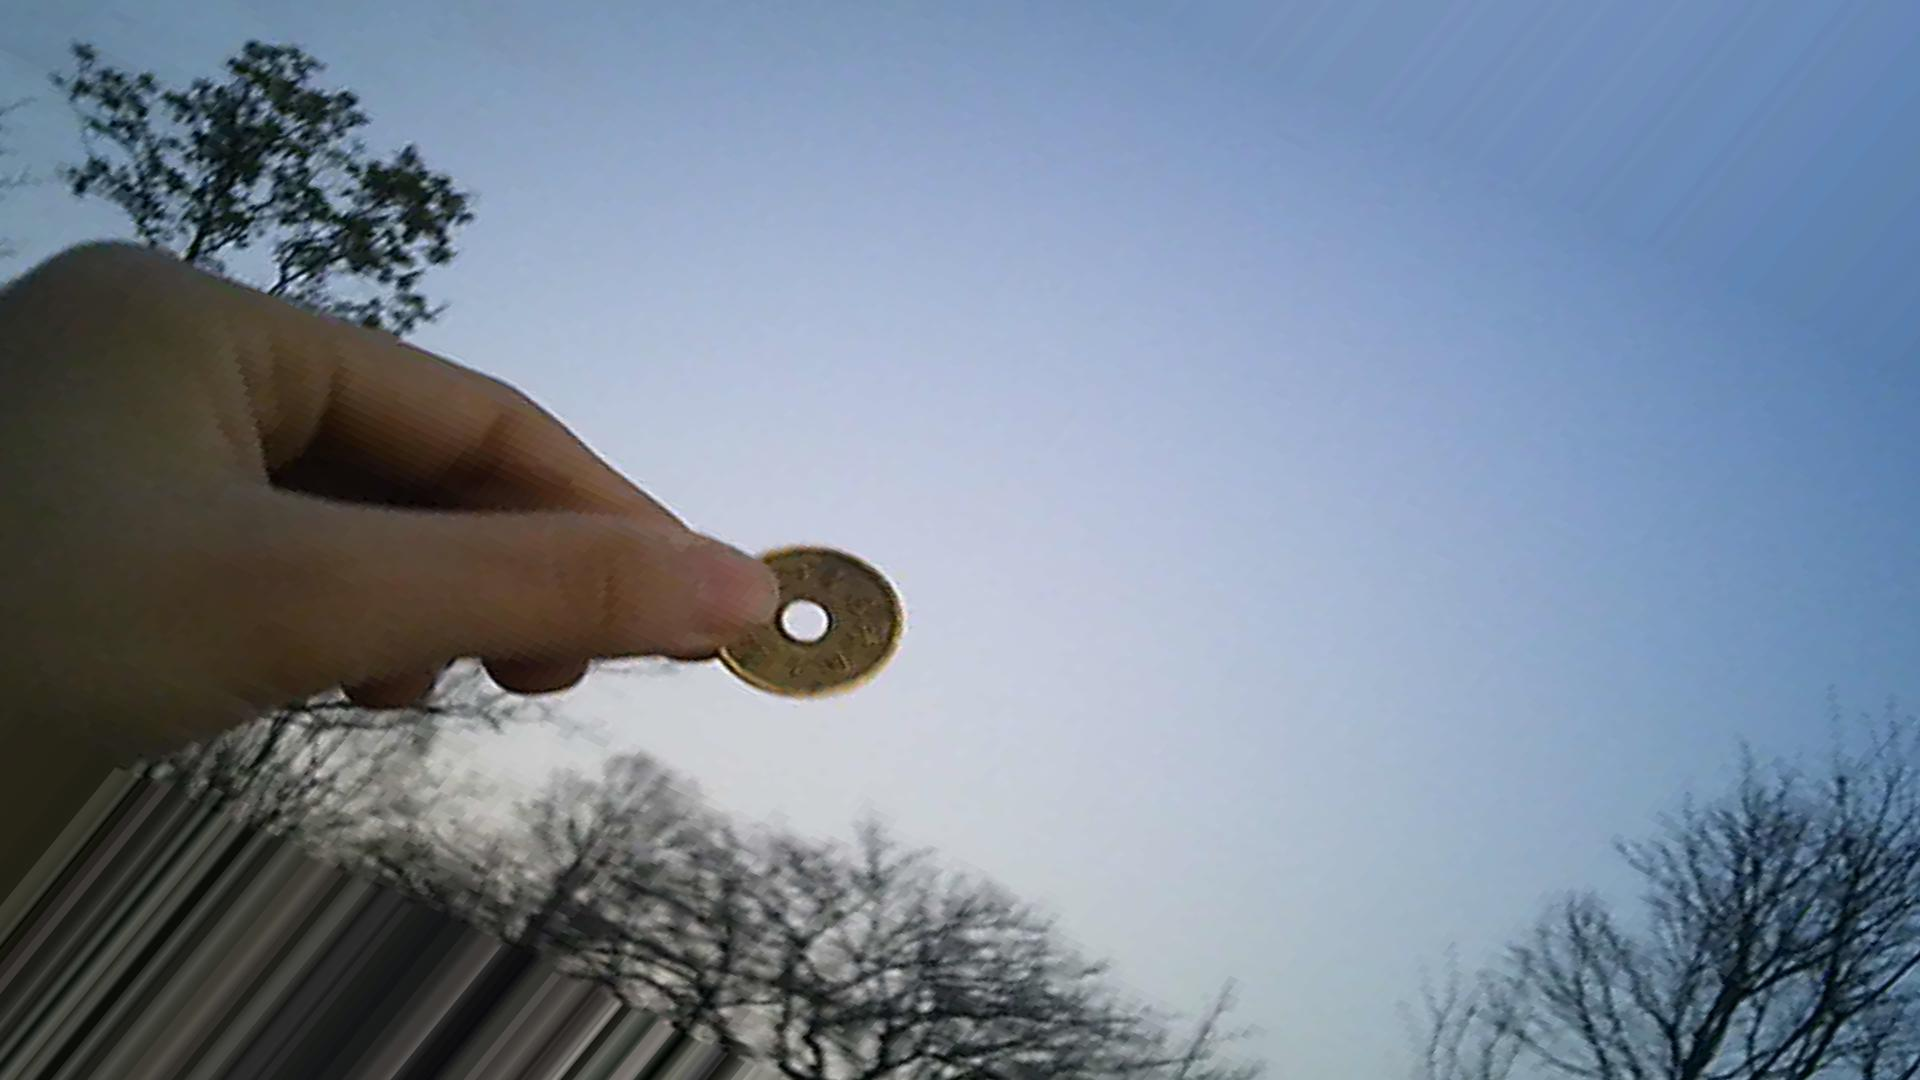5 Yen: (702, 541, 922, 715)
